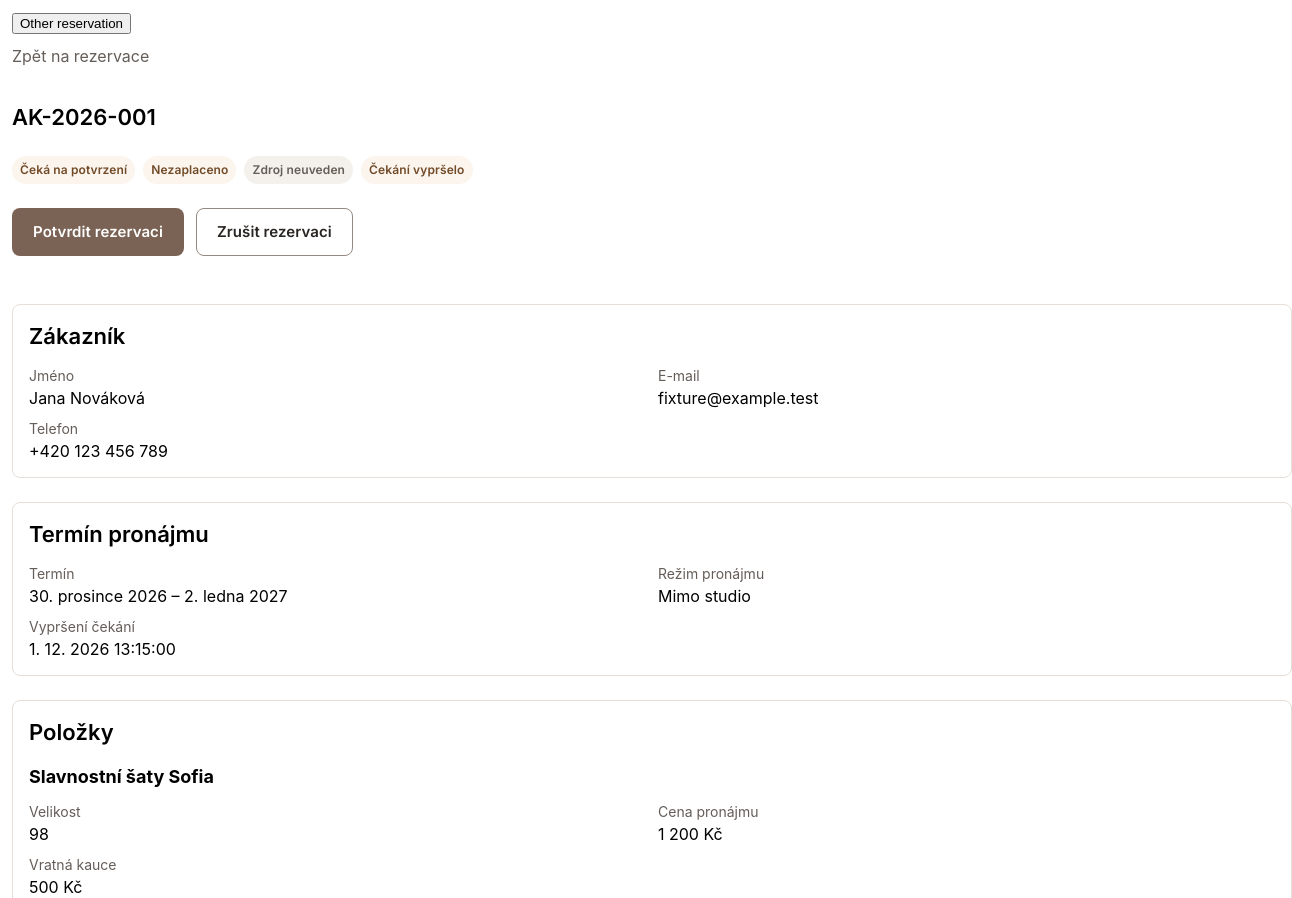
Test: expired pending can confirm; authoritative status changes action and receives focus
Check: the text "Čekání vypršelo" is shown, box 369,162 -> 465,178
What coordinates should you click on to do the following:
click the button "Potvrdit rezervaci"
I would click on:
 (98, 232)
Its box is 12,208 -> 184,256.
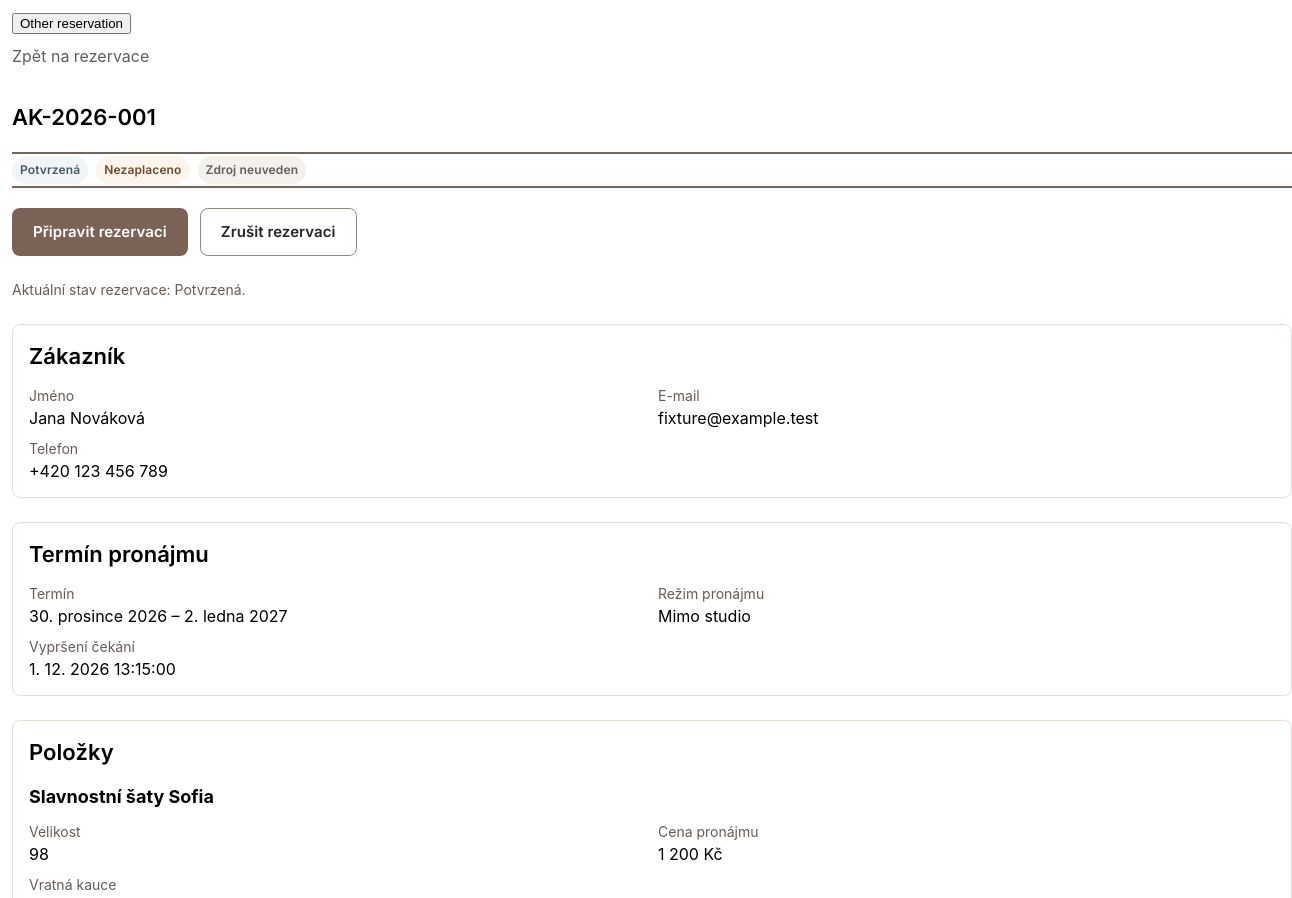
Check: the button "Připravit rezervaci" is shown, box 12,208 -> 188,256
Check: the button "Potvrdit rezervaci" is gone
